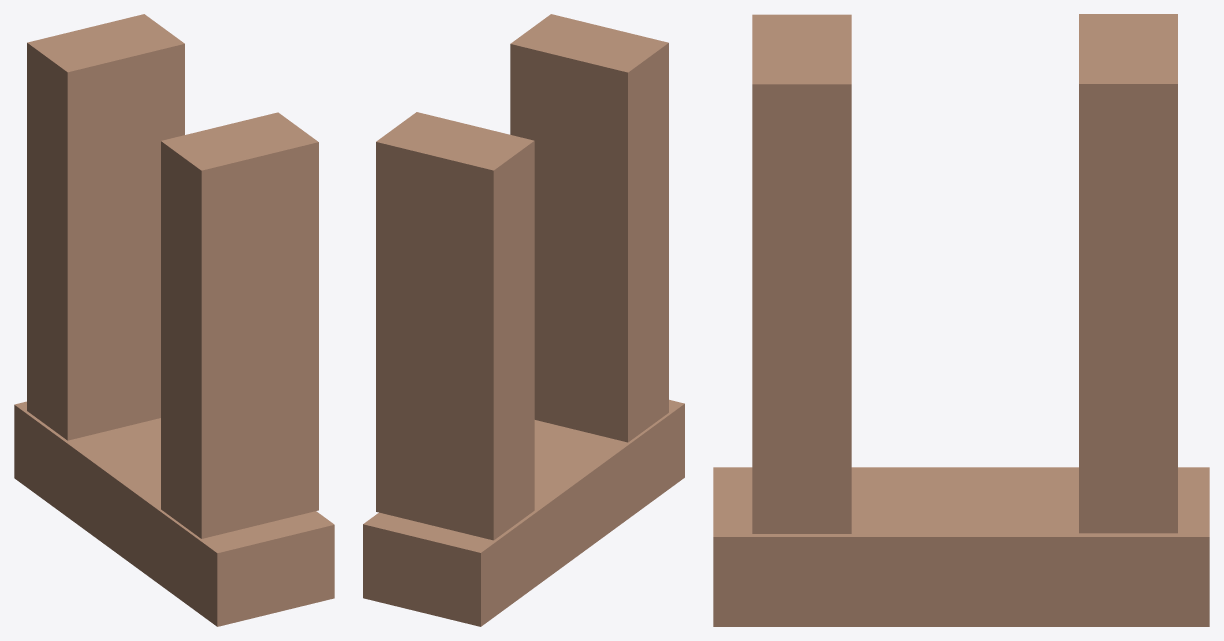
File: env9.dae
3 renders of one model, left to right at view 1: azimuth 30°, elevation 25°; view 2: azimuth 150°, elevation 25°; view 3: azimuth 270°, elevation 25°, orthographic. The views are drawn at different scales.
Parts seen in each view (by area): view 1: base (×3); view 2: base (×3); view 3: base (×3).
Boxes of the visible parts, x1,y1,x2,y2 form: base (×3): [14, 14, 334, 626]; base (×3): [363, 14, 684, 626]; base (×3): [713, 14, 1209, 626].
Bounding box in the file's own units: 0.0508 × 0.1524 × 0.1841.
